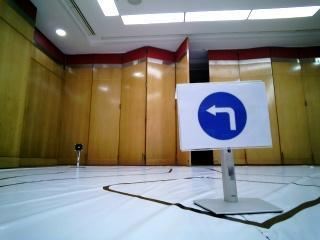left: (177, 83, 269, 147)
